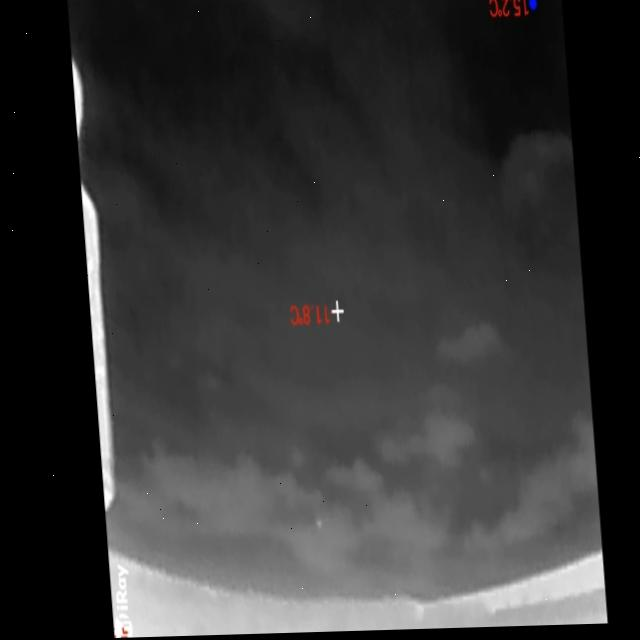drone: (307, 517, 316, 531)
